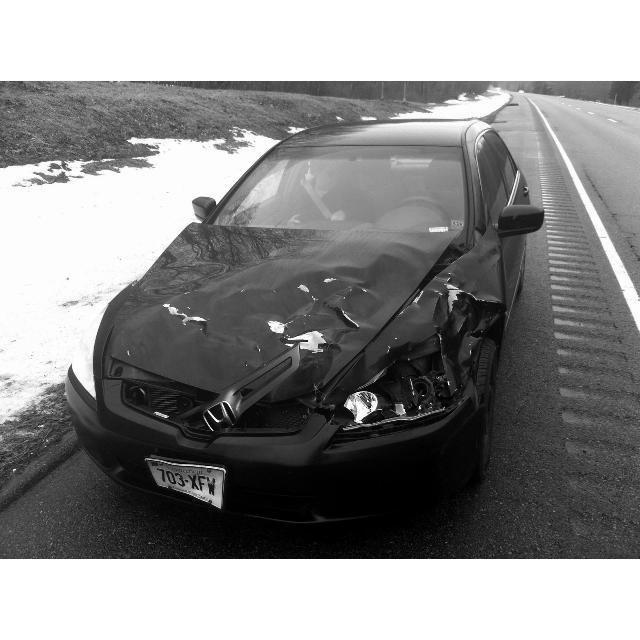Headlight-damage: (337, 362, 449, 432)
bonnet-dent: (137, 210, 413, 356)
front-bumper-dent: (76, 409, 320, 505)
